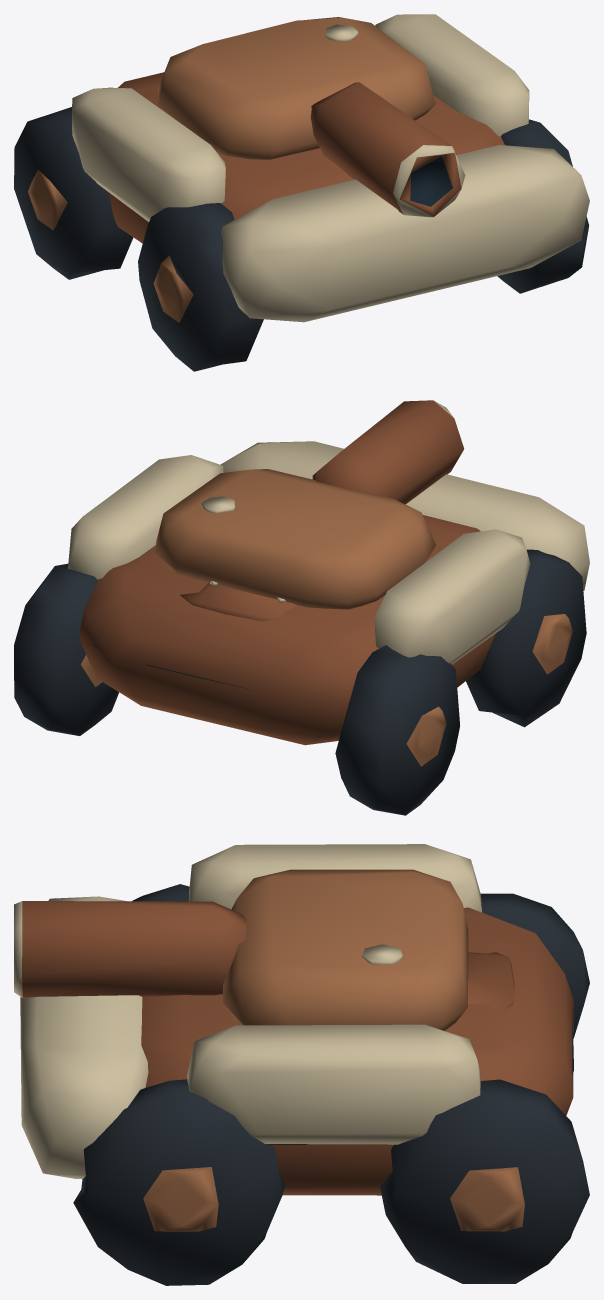
The model's file is TOY_ROOKIE.far.glb.
The picture shows the model from 3 angles, top to bottom: view 1: azimuth 30°, elevation 25°; view 2: azimuth 150°, elevation 25°; view 3: azimuth 270°, elevation 25°; orthographic projection. The views are drawn at different scales.
Parts seen in each view (by area): view 1: Body, TurretYaw, WheelsFront, BarrelRecoil, WheelsRear; view 2: Body, TurretYaw, WheelsRear, WheelsFront, BarrelRecoil; view 3: Body, WheelsRear, TurretYaw, WheelsFront, BarrelRecoil.
Boxes of the visible parts, left/top/right/bottom form: Body: left=72, top=14, right=589, bottom=322; TurretYaw: left=157, top=17, right=435, bottom=159; WheelsFront: left=138, top=119, right=589, bottom=371; BarrelRecoil: left=310, top=82, right=465, bottom=217; WheelsRear: left=14, top=107, right=133, bottom=279; Body: left=68, top=441, right=589, bottom=745; TurretYaw: left=154, top=469, right=435, bottom=609; WheelsRear: left=14, top=563, right=459, bottom=815; WheelsFront: left=466, top=549, right=586, bottom=727; BarrelRecoil: left=312, top=400, right=464, bottom=504; Body: left=20, top=844, right=573, bottom=1195; WheelsRear: left=380, top=893, right=589, bottom=1283; TurretYaw: left=223, top=869, right=468, bottom=1030; WheelsFront: left=73, top=884, right=285, bottom=1285; BarrelRecoil: left=14, top=901, right=246, bottom=998.
Size of the model in its own units: 0.7443 by 0.4184 by 0.7817.
